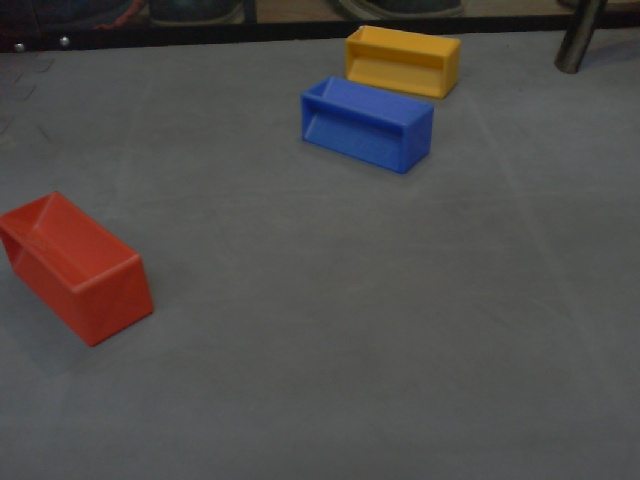BlueSample: (300, 76, 433, 173)
RedSample: (1, 191, 155, 348)
YellowSample: (341, 23, 463, 102)
